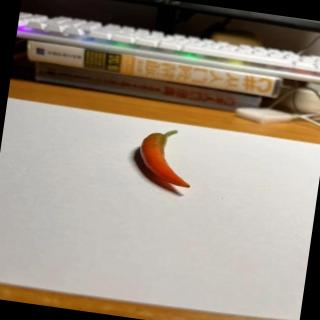Cabai Merah: (136, 125, 198, 188)
